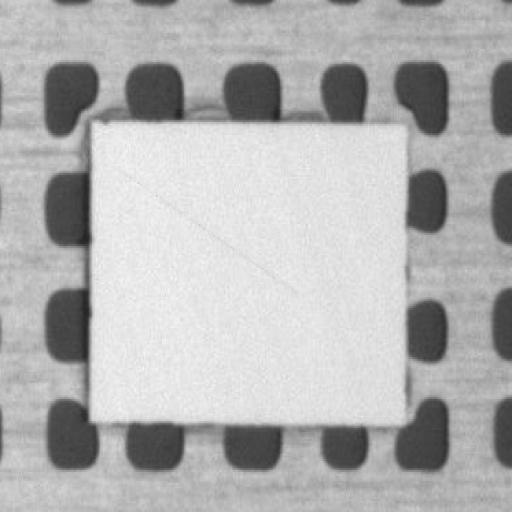DIE_CRACK: (157, 126, 390, 218)
